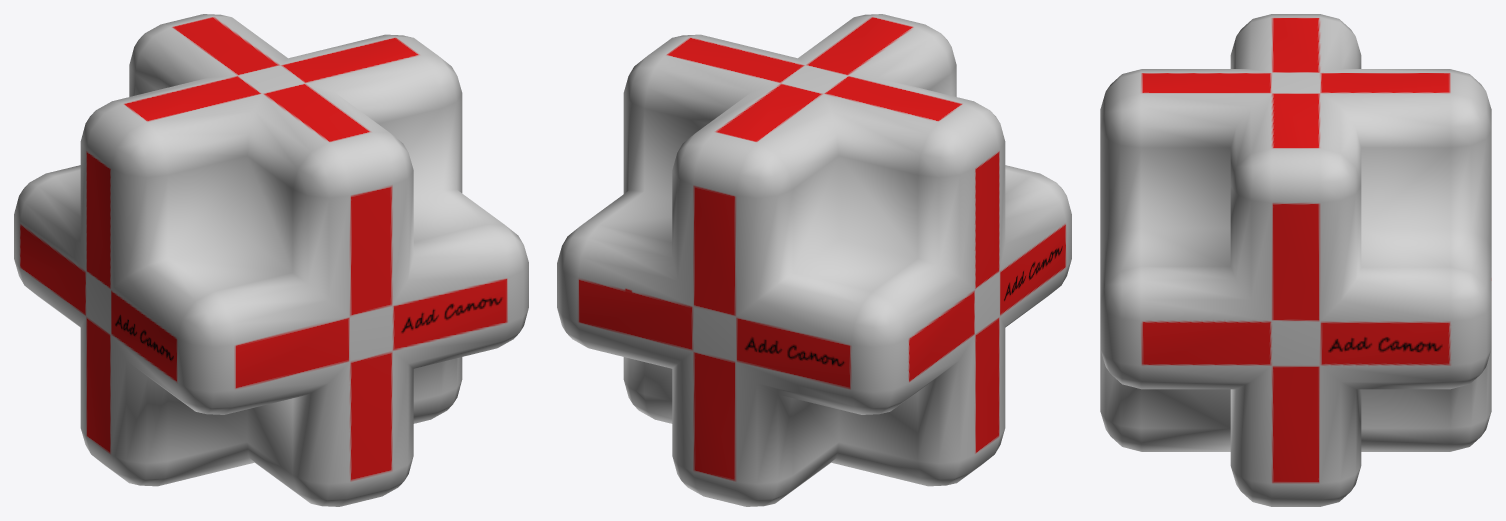
File: AddCanon.fbx
The picture shows the model from 3 angles, left to right: view 1: azimuth 30°, elevation 25°; view 2: azimuth 150°, elevation 25°; view 3: azimuth 270°, elevation 25°; orthographic projection.
Visible parts, largest first — view 1: pCube1; view 2: pCube1; view 3: pCube1.
Boxes of the visible parts, x1=… form: pCube1: x1=14, y1=14, x2=528, y2=506; pCube1: x1=557, y1=14, x2=1071, y2=506; pCube1: x1=1100, y1=14, x2=1491, y2=506.
Bounding box in the file's own units: 68.72 × 68.72 × 68.72.
1 material, 1 textured.
